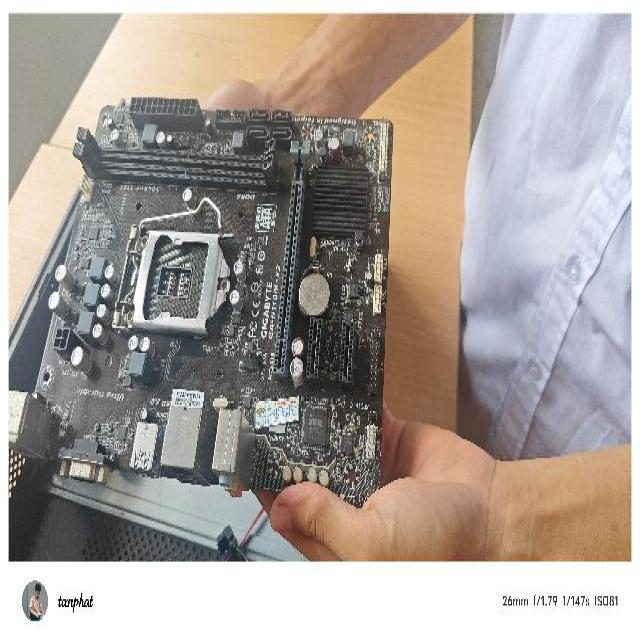Mainboard: (22, 88, 398, 524)
